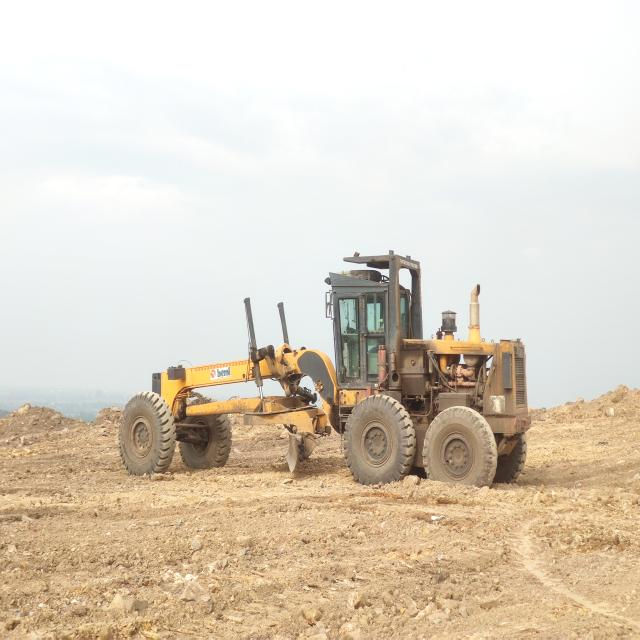buldozerpayloadergrader: (119, 252, 531, 487)
